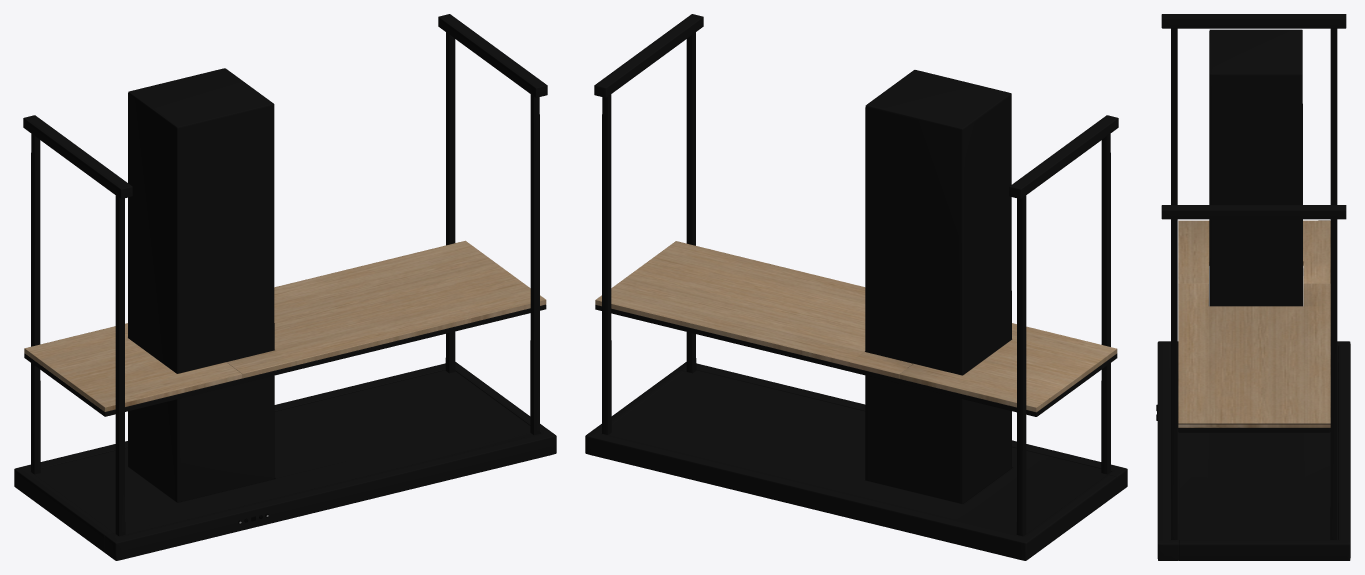
The model's file is MH003_Cooker_hood_03.gltf.
3 views of the same model, side by side, from view 1: azimuth 30°, elevation 25°; view 2: azimuth 150°, elevation 25°; view 3: azimuth 270°, elevation 25° (orthographic). The views are drawn at different scales.
Parts seen in each view (by area): view 1: ChainSopports; view 2: ChainSopports; view 3: ChainSopports.
Part boxes in pixels (box(x1,y1,x2,y2)): ChainSopports: box(14, 14, 556, 560); ChainSopports: box(585, 14, 1127, 560); ChainSopports: box(1156, 14, 1350, 560).
Size of the model in its own units: 1.2 by 1.02 by 0.4848.
Materials: 1 (1 with a texture image).
